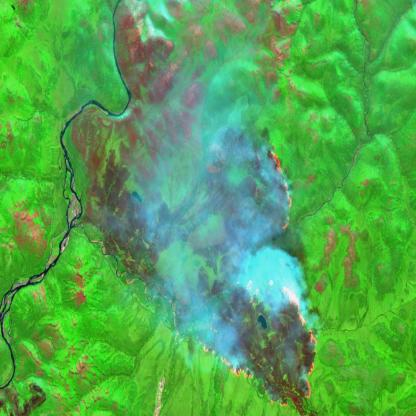fire: (196, 146, 322, 416)
